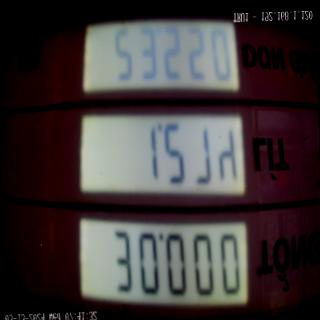screen: (66, 4, 256, 320)
